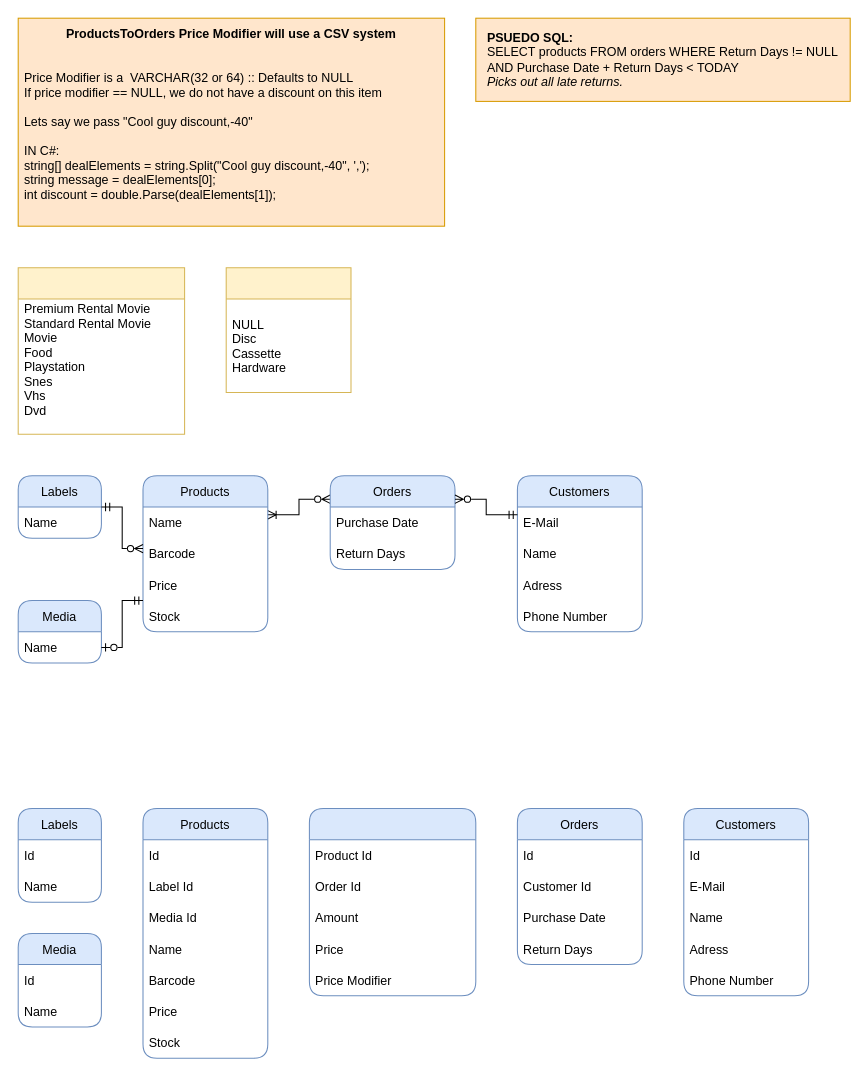
The diagram is 868 pixels wide and 1076 high, and some of its shapes have lost their labels. The box of each missing label's shape, as (x1, y1, x2, y2) in pixels:
LABEL EXAMPLES: (17, 267, 185, 434)
MEDIA EXAMPLES: (225, 267, 351, 393)
ProductsToOrders: (308, 808, 476, 996)
